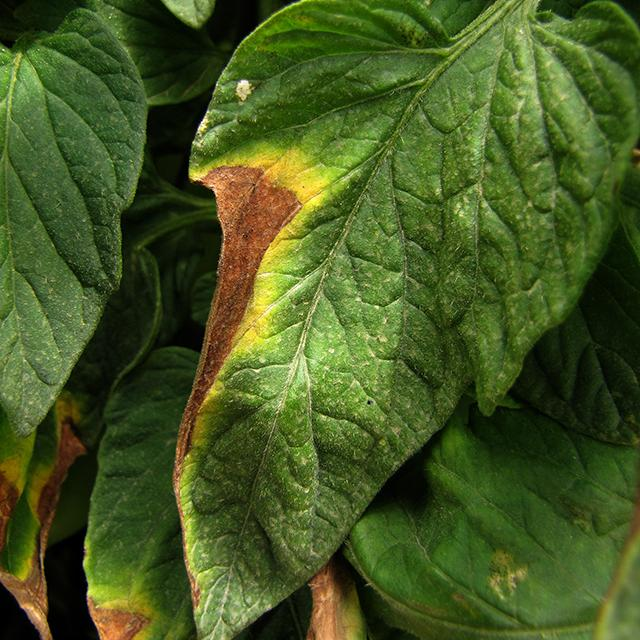Tomato leaf bacterial spot: (170, 0, 627, 640)
